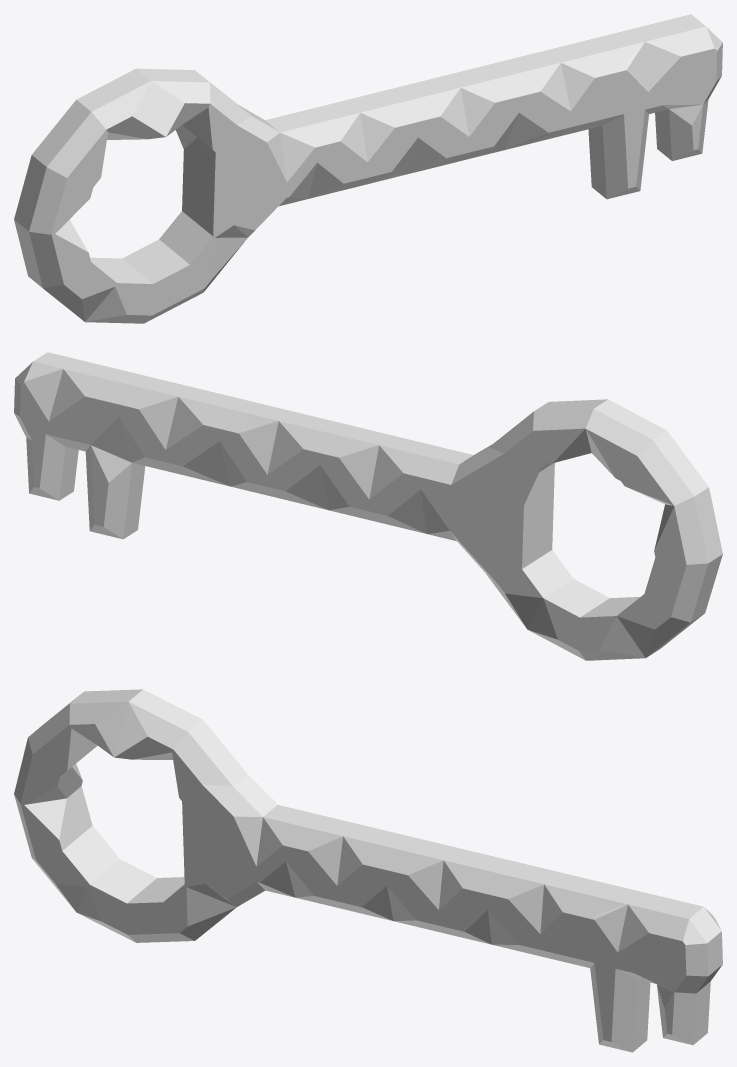
Rendered from white_key.glb.
3 renders of one model, top to bottom at view 1: azimuth 30°, elevation 25°; view 2: azimuth 150°, elevation 25°; view 3: azimuth 330°, elevation 25°, orthographic.
Visible parts, largest first — view 1: Circle.024; view 2: Circle.024; view 3: Circle.024.
Part boxes in pixels (bbox=[...]): Circle.024: bbox=[14, 14, 722, 323]; Circle.024: bbox=[14, 352, 722, 660]; Circle.024: bbox=[14, 689, 722, 1052].
Bounding box in the file's own units: 1.89 × 0.6483 × 0.217.
1 material, 1 textured.
